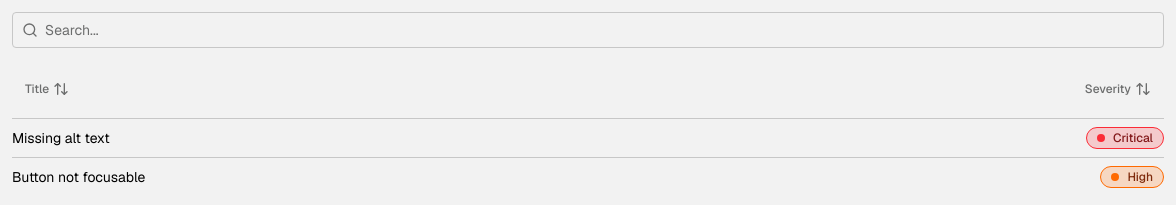
Test: ReportIssuesPanel › filters issues by search query
Type "alt" into the field with placeholder "Search..." at (588, 30), box [12,12,1164,48]
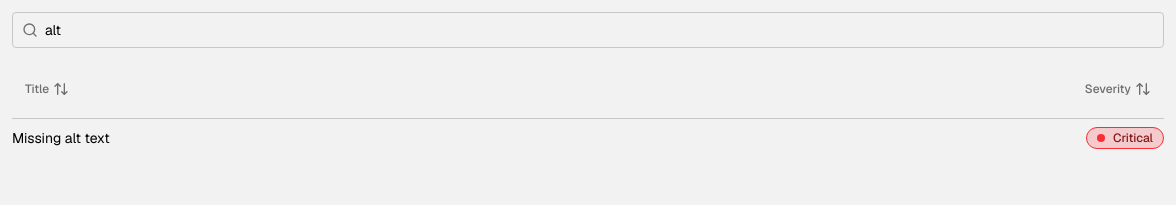
Expected: the text "Missing alt text" is shown, [12,118,638,157]
Now the text "Button not focusable" is gone
